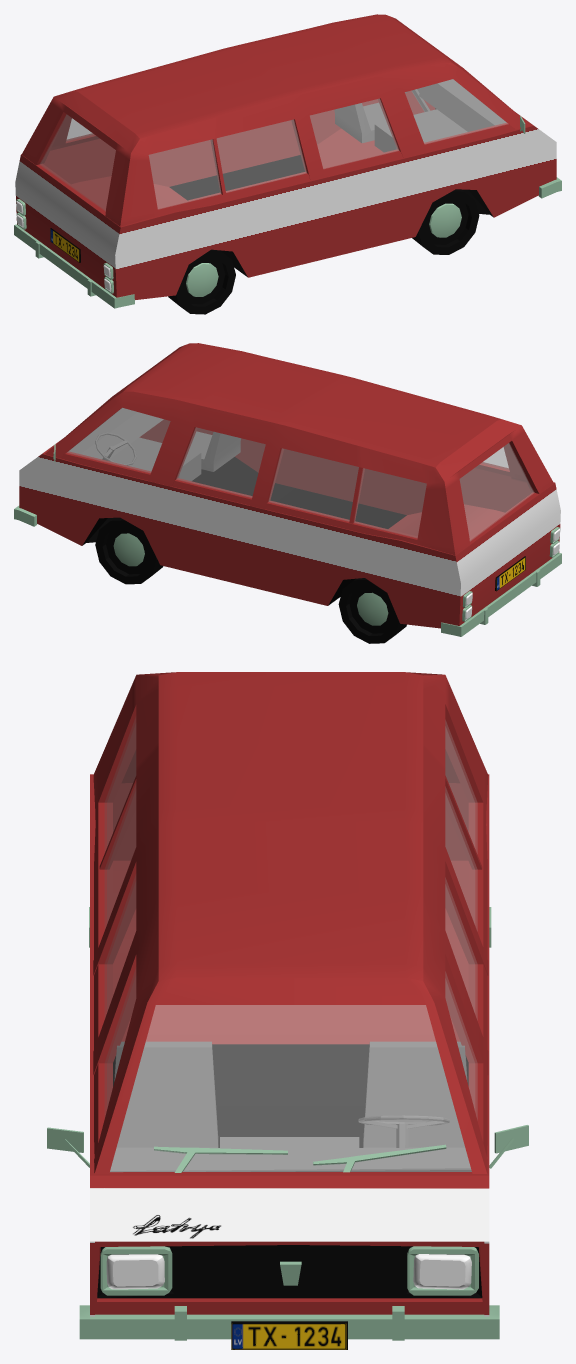
The model's file is van.obj.
3 renders of one model, top to bottom at view 1: azimuth 30°, elevation 25°; view 2: azimuth 150°, elevation 25°; view 3: azimuth 270°, elevation 25°, orthographic. The views are drawn at different scales.
Visible parts, largest first — view 1: pCube1_Paint_main_0, pCube2_Paint_main_0, pCube13_glass_0, pCube26_glass_0, pCube1_rubber_0, pCube6_lambert1_0, pCylinder5_rubber_0, pCylinder2_rubber_0, pCube17_metal_0, pCube3_lambert1_0, pCube5_lambert1_0, pCylinder4_metal_0 (+2 smaller); view 2: pCube1_Paint_main_0, pCube2_Paint_main_0, pCube14_glass_0, pCube1_rubber_0, pCube26_glass_0, pCylinder7_rubber_0, pCylinder9_rubber_0, pCube6_lambert1_0, pCube17_metal_0, pCube3_lambert1_0, pCube4_lambert1_0, pCylinder6_metal_0 (+2 smaller); view 3: pCube2_Paint_main_0, pCube1_Paint_main_0, pCube15_glass_0, pCube1_rubber_0, pCube16_metal_0, pCube4_lambert1_0, pCube5_lambert1_0, pCube6_lambert1_0, pCube14_glass_0, pCube13_glass_0, pCube28_number_plate_0, pCube11_lamp_0 (+8 smaller).
Boxes of the visible parts, x1,y1,x2,y2 form: pCube1_Paint_main_0: [15, 91, 556, 299]; pCube2_Paint_main_0: [21, 14, 530, 226]; pCube13_glass_0: [149, 79, 507, 209]; pCube26_glass_0: [40, 114, 115, 210]; pCube1_rubber_0: [169, 108, 493, 277]; pCube6_lambert1_0: [417, 79, 506, 131]; pCylinder5_rubber_0: [412, 189, 479, 254]; pCylinder2_rubber_0: [168, 249, 235, 314]; pCube17_metal_0: [14, 224, 134, 308]; pCube3_lambert1_0: [374, 109, 467, 152]; pCube5_lambert1_0: [334, 102, 385, 142]; pCylinder4_metal_0: [429, 203, 461, 237]; pCube1_Paint_main_0: [19, 419, 560, 628]; pCube2_Paint_main_0: [45, 343, 553, 555]; pCube14_glass_0: [67, 408, 426, 537]; pCube1_rubber_0: [82, 457, 406, 605]; pCube26_glass_0: [460, 443, 534, 540]; pCylinder7_rubber_0: [95, 517, 163, 584]; pCylinder9_rubber_0: [338, 578, 406, 643]; pCube6_lambert1_0: [69, 408, 163, 459]; pCube17_metal_0: [441, 553, 561, 636]; pCube3_lambert1_0: [110, 437, 201, 480]; pCube4_lambert1_0: [189, 431, 240, 471]; pCylinder6_metal_0: [113, 533, 144, 566]; pCube2_Paint_main_0: [93, 672, 488, 1173]; pCube1_Paint_main_0: [90, 774, 489, 1316]; pCube15_glass_0: [110, 1005, 470, 1171]; pCube1_rubber_0: [97, 1044, 482, 1298]; pCube16_metal_0: [79, 1305, 499, 1340]; pCube4_lambert1_0: [114, 1041, 218, 1147]; pCube5_lambert1_0: [363, 1041, 467, 1147]; pCube6_lambert1_0: [110, 1148, 471, 1171]; pCube14_glass_0: [445, 721, 477, 1118]; pCube13_glass_0: [105, 718, 135, 1115]; pCube28_number_plate_0: [231, 1321, 347, 1349]; pCube11_lamp_0: [413, 1254, 471, 1289].
Bounding box in the file's own units: 9.46 × 3.79 × 4.39.
7 materials, 2 textured.
